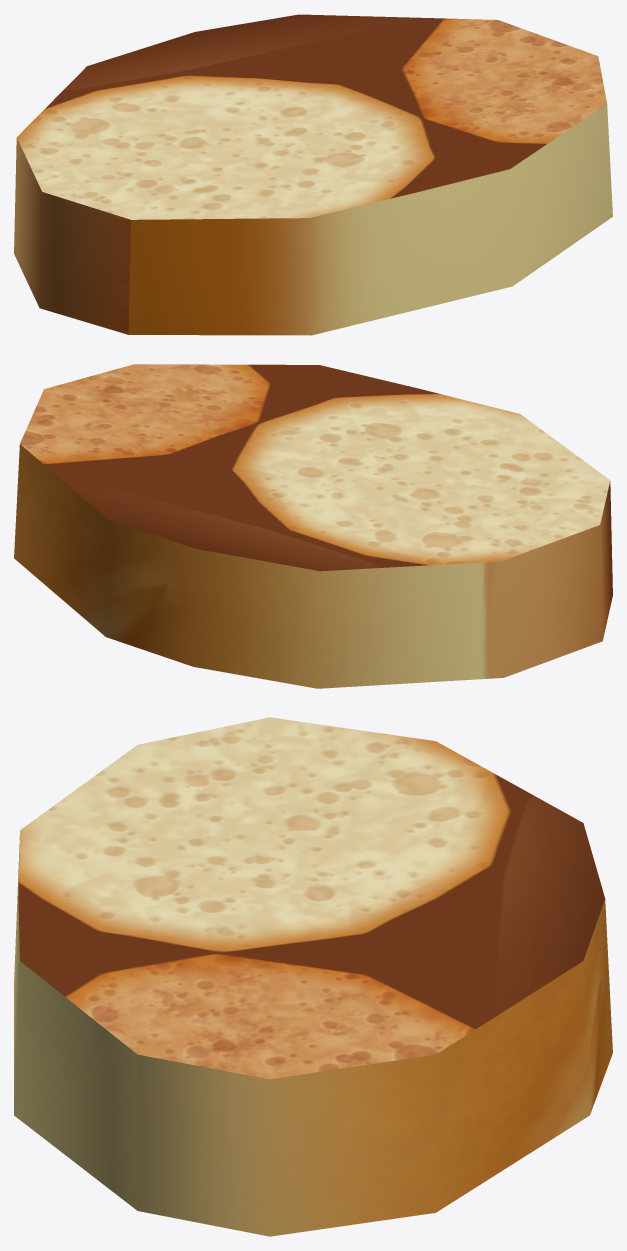
The model's file is French_02_Slice.fbx.
3 views of the same model, one above another, from view 1: azimuth 30°, elevation 25°; view 2: azimuth 150°, elevation 25°; view 3: azimuth 270°, elevation 25° (orthographic). The views are drawn at different scales.
Parts seen in each view (by area): view 1: French_02_Slice; view 2: French_02_Slice; view 3: French_02_Slice.
Boxes of the visible parts, box(x1,y1,x2,y2) form: French_02_Slice: box(14, 14, 612, 335); French_02_Slice: box(14, 364, 612, 688); French_02_Slice: box(14, 717, 612, 1236).
Size of the model in its own units: 40.97 by 8.05 by 28.29.
